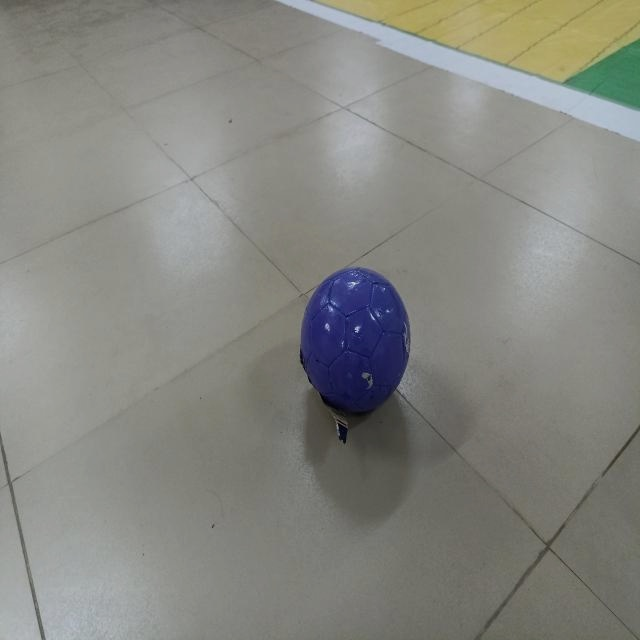purple_ball: (296, 259, 424, 427)
